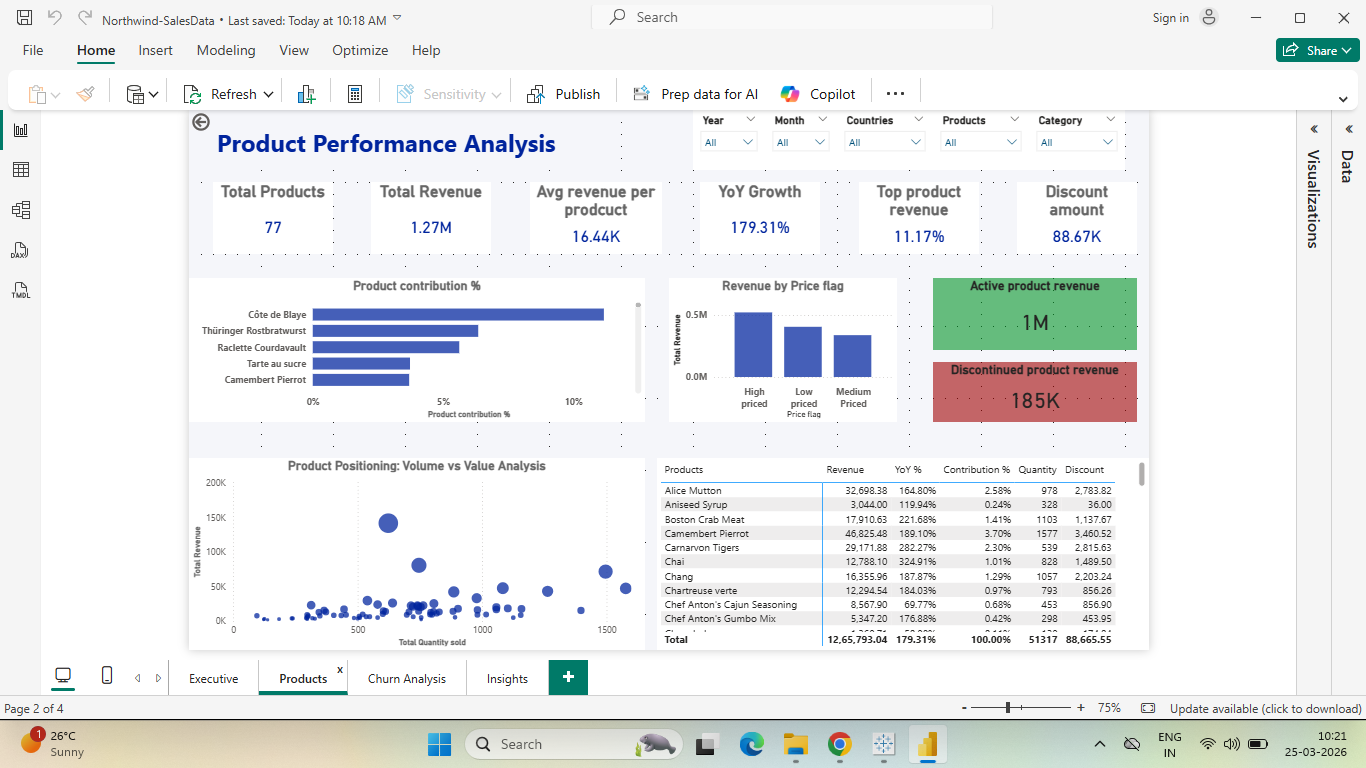

The page's visual inventory and layout, read from the dashboard file:
{"tool":"powerbi","page":{"name":"Products","canvas":[1280,720],"ordinal":1},"visuals":[{"type":"slicer","fields":{"Values":["Date table.year"]},"box":[672,0,96,80],"z":0,"group":"g2"},{"type":"slicer","fields":{"Values":["Date table.Month"]},"box":[768,0,96,80],"z":0,"group":"g1"},{"type":"card","title":"YoY Growth","fields":{"Values":["Product analysis.Product revenue yoy %"]},"box":[681.6,96,160,96],"z":0},{"type":"slicer","fields":{"Values":["customers.country"]},"box":[864,0,128,80],"z":1000,"group":"g1"},{"type":"card","title":"Avg revenue per prodcuct","fields":{"Values":["Product analysis.Avg revenue per product"]},"box":[454.4,96,176,96],"z":1000},{"type":"slicer","fields":{"Values":["products.productName"]},"box":[992,0,128,80],"z":2000,"group":"g1"},{"type":"card","title":"Total Revenue","fields":{"Values":["Measures (2).Total Revenue"]},"box":[243.2,96,160,96],"z":2000},{"type":"group","id":"g1","title":"Group 1","box":[768,0,480,80],"z":2016,"group":"g2"},{"type":"slicer","fields":{"Values":["categories.categoryName"]},"box":[1120,0,128,80],"z":3000,"group":"g1"},{"type":"card","title":"Total Products","fields":{"Values":["Product analysis.Total Products"]},"box":[32,96,160,96],"z":3000},{"type":"actionButton","box":[0,0,32,32],"z":4000},{"type":"card","title":"Top product revenue ","fields":{"Values":["Product analysis.Top product revenue %"]},"box":[892.8,96,160,96],"z":5000},{"type":"card","title":"Discount amount","fields":{"Values":["Sum(order_details.Discount amount)"]},"box":[1104,96,160,96],"z":6000},{"type":"scatterChart","title":"Product Positioning: Volume vs Value Analysis","fields":{"X":["Product analysis.Total Quantity sold"],"Y":["Measures (2).Total Revenue"],"Size":["Product analysis.Product contribution %"],"Category":["products.productName"]},"box":[0,464,608,256],"z":7000},{"type":"clusteredBarChart","title":"Product contribution % ","fields":{"Y":["Product analysis.Product contribution %"],"Category":["products.productName"]},"box":[0,224,608,192],"z":8000},{"type":"pivotTable","fields":{"Rows":["products.productName"],"Values":["Measures (2).Total Revenue","Measures (2).Revenue yoy %","Product analysis.Product contribution %","Product analysis.Total Quantity sold","Sum(order_details.Discount amount)"]},"box":[624,464,656,256],"z":9000},{"type":"card","title":"Active product revenue","fields":{"Values":["Product analysis.Revenue due to active products"]},"box":[992,224,272,96],"z":10000},{"type":"card","title":"Discontinued product revenue","fields":{"Values":["Product analysis.Revenue due to discontinude products"]},"box":[992,336,272,80],"z":11000},{"type":"group","id":"g2","title":"Group 2","box":[672,0,576,80],"z":12000},{"type":"textbox","box":[32,16,496,64],"z":13000},{"type":"columnChart","title":" Revenue by Price flag","fields":{"Category":["products.Price flag"],"Y":["Measures (2).Total Revenue"]},"box":[640,224,304,192],"z":14000}]}

Visuals, with their boxes on the page's 1280x720 design canvas (x1, y1, x2, y2). These are canvas units, not pixel positions in the 1366x768 screenshot, which may show the page scaled, cropped or inside an application window:
slicer - Date table.year: x1=672 y1=0 x2=768 y2=80
slicer - Date table.Month: x1=768 y1=0 x2=864 y2=80
"YoY Growth" card: x1=682 y1=96 x2=842 y2=192
slicer - customers.country: x1=864 y1=0 x2=992 y2=80
"Avg revenue per prodcuct" card: x1=454 y1=96 x2=630 y2=192
slicer - products.productName: x1=992 y1=0 x2=1120 y2=80
"Total Revenue" card: x1=243 y1=96 x2=403 y2=192
"Group 1" group: x1=768 y1=0 x2=1248 y2=80
slicer - categories.categoryName: x1=1120 y1=0 x2=1248 y2=80
"Total Products" card: x1=32 y1=96 x2=192 y2=192
actionButton: x1=0 y1=0 x2=32 y2=32
"Top product revenue " card: x1=893 y1=96 x2=1053 y2=192
"Discount amount" card: x1=1104 y1=96 x2=1264 y2=192
"Product Positioning: Volume vs Value Analysis" scatterChart: x1=0 y1=464 x2=608 y2=720
"Product contribution % " clusteredBarChart: x1=0 y1=224 x2=608 y2=416
pivotTable - products.productName x Measures (2).Total Revenue: x1=624 y1=464 x2=1280 y2=720
"Active product revenue" card: x1=992 y1=224 x2=1264 y2=320
"Discontinued product revenue" card: x1=992 y1=336 x2=1264 y2=416
"Group 2" group: x1=672 y1=0 x2=1248 y2=80
textbox: x1=32 y1=16 x2=528 y2=80
" Revenue by Price flag" columnChart: x1=640 y1=224 x2=944 y2=416
